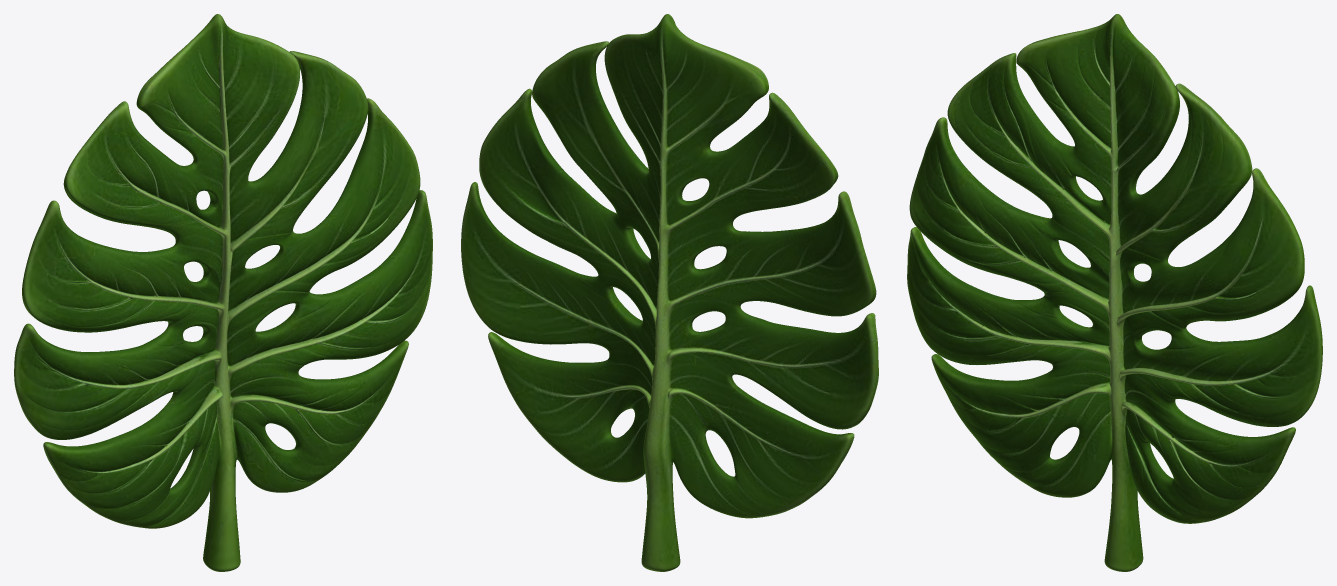
3 views of the same model, side by side, from view 1: azimuth 30°, elevation 25°; view 2: azimuth 150°, elevation 25°; view 3: azimuth 330°, elevation 25° (orthographic).
Bounding box in the file's own units: 1.5 × 1.9 × 0.1915.
1 material, 1 textured.
